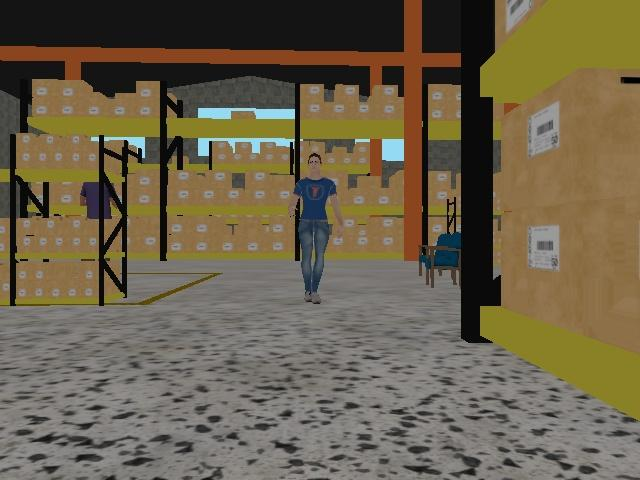chair: (415, 227, 462, 290)
person: (287, 150, 346, 307)
